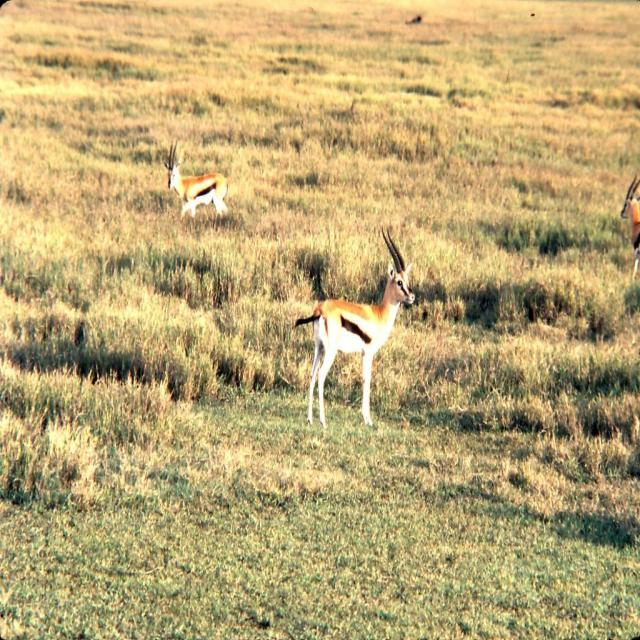Deer: (293, 224, 417, 430), (163, 138, 228, 214), (620, 173, 640, 280)
